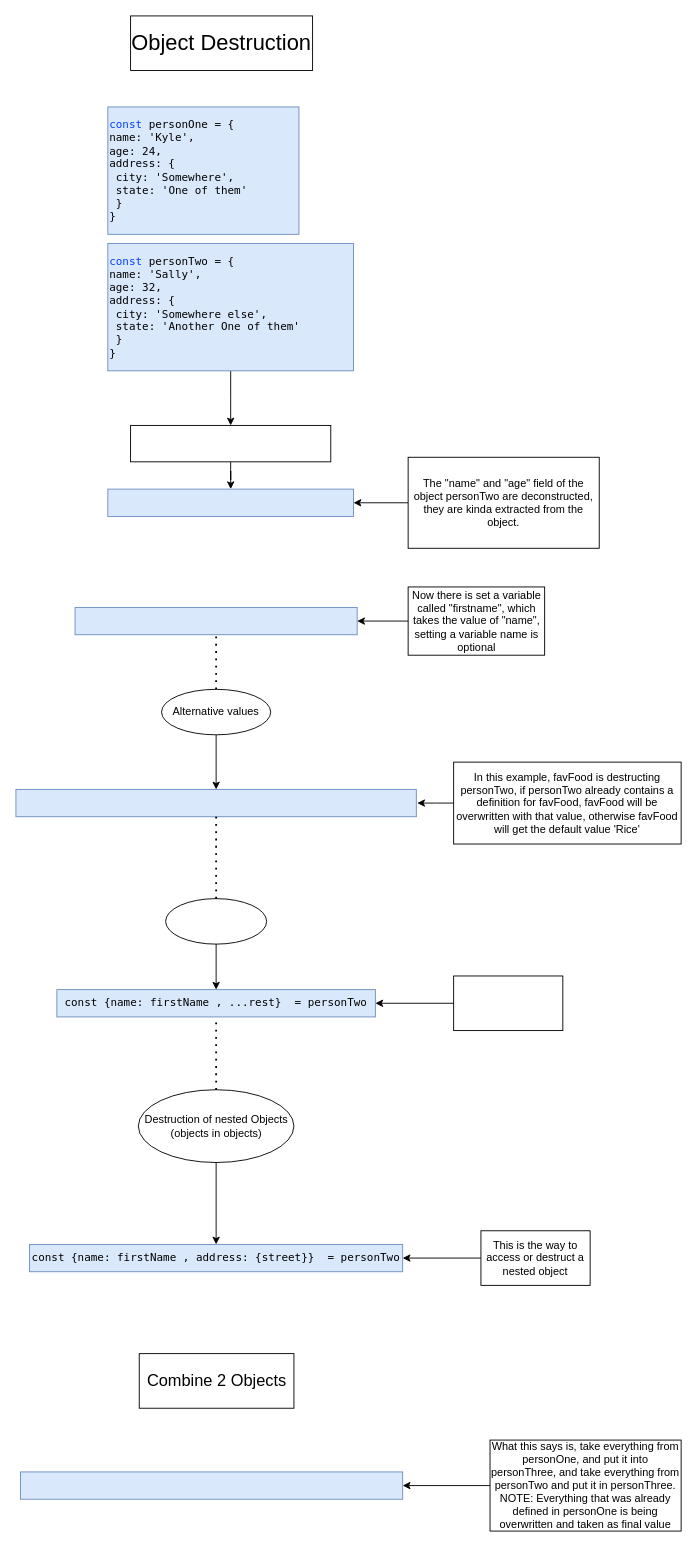
Some shapes in this 697 by 1547 pixel diagram are drawn without their labels. Each missing label, with the centre of its shape:
const personThree = {...personOne, ...personTwo}: point (211, 1485)
const {name , age} = personTwo: point (230, 502)
const {name: firstName , age, favFood = 'Rice'} = personTwo: point (215, 803)
const {name: firstName , age} = personTwo: point (215, 621)
Destructure the object personTwo: point (230, 443)
In this case, everything besides "name" is being stored in "rest": point (508, 1003)
Spread Operator: point (216, 921)
